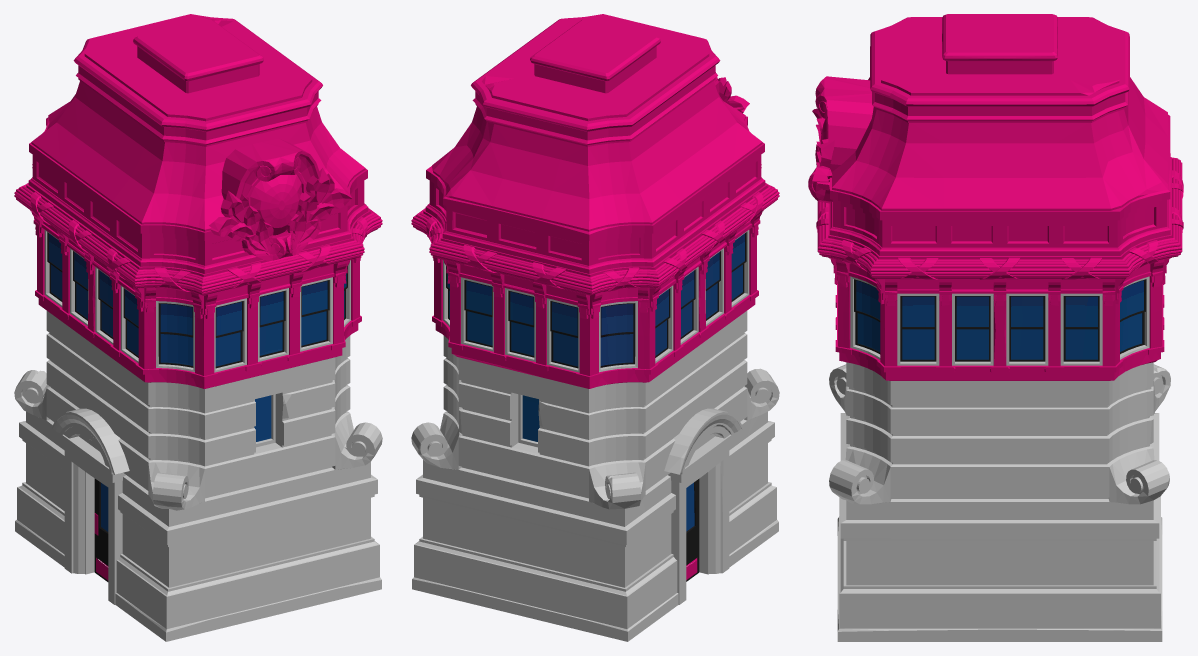
Rendered from BridgeBuilding00.fbx.
3 renders of one model, left to right at view 1: azimuth 30°, elevation 25°; view 2: azimuth 150°, elevation 25°; view 3: azimuth 270°, elevation 25°, orthographic. The views are drawn at different scales.
Visible parts, largest first — view 1: SM_City_Bridge_Building_01.mo; view 2: SM_City_Bridge_Building_01.mo; view 3: SM_City_Bridge_Building_01.mo.
Part boxes in pixels (left/top/right/bottom): SM_City_Bridge_Building_01.mo: left=14, top=14, right=382, bottom=641; SM_City_Bridge_Building_01.mo: left=411, top=14, right=779, bottom=641; SM_City_Bridge_Building_01.mo: left=808, top=14, right=1183, bottom=641.
Size of the model in its own units: 544 by 1068 by 658.
